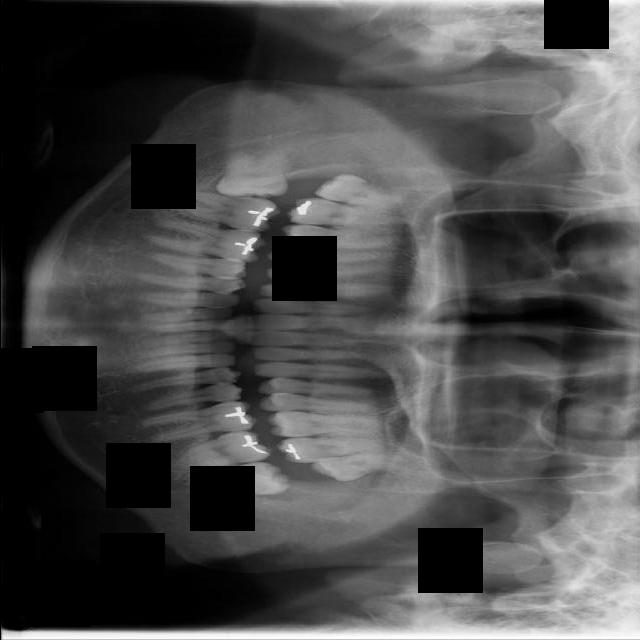3M ESPE Implant: (312, 169, 406, 212)
52: (220, 189, 280, 240), (209, 224, 268, 268), (207, 395, 258, 439), (213, 430, 270, 464), (282, 197, 337, 226), (277, 438, 321, 462)
73: (38, 614, 52, 626)
BioHorizons Implant: (273, 437, 377, 465)
BioLife Implant: (306, 452, 399, 485)
Biomet 3i Implant: (191, 462, 286, 497)
Blue Sky Bio Implant: (168, 427, 270, 473)
Caries: (283, 196, 388, 231)
Implant: (175, 189, 278, 235)
Keystone Dental Implant: (216, 152, 287, 198)
